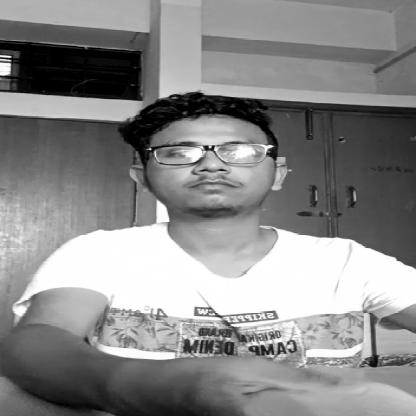Normal: (121, 99, 281, 211)
